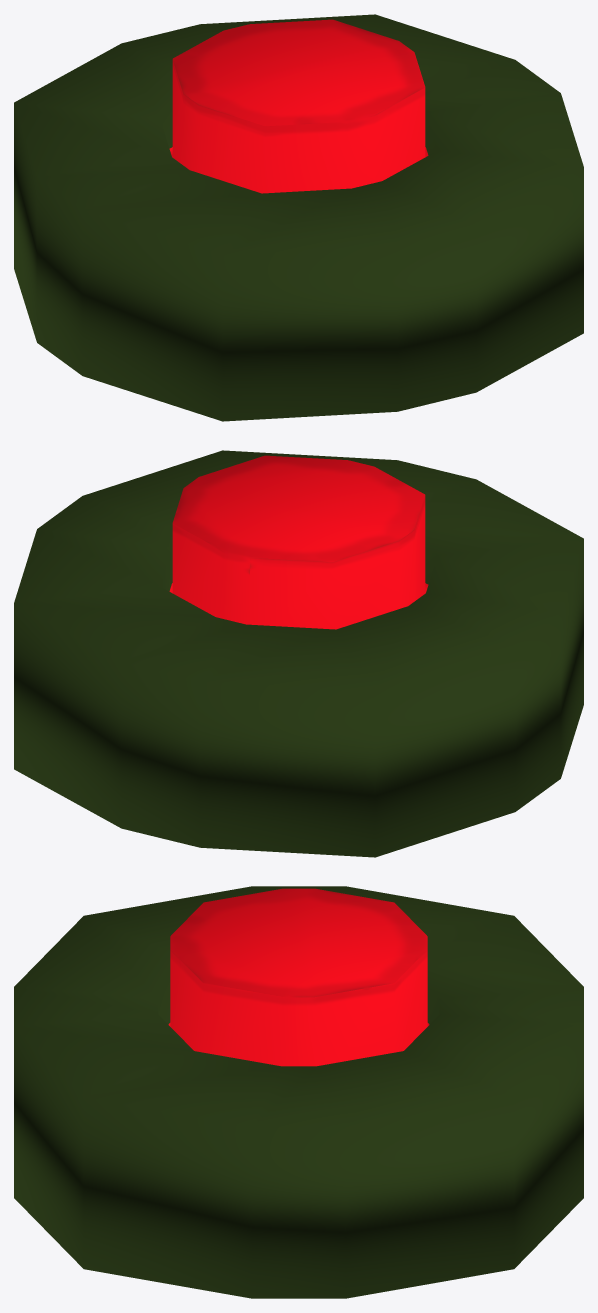
The model's file is mine.fbx.
3 renders of one model, top to bottom at view 1: azimuth 30°, elevation 25°; view 2: azimuth 150°, elevation 25°; view 3: azimuth 270°, elevation 25°, orthographic. The views are drawn at different scales.
Parts seen in each view (by area): view 1: Cube; view 2: Cube; view 3: Cube.
Boxes of the visible parts, x1=… form: Cube: x1=14, y1=14, x2=583, y2=421; Cube: x1=14, y1=450, x2=583, y2=857; Cube: x1=14, y1=886, x2=583, y2=1298.
Size of the model in its own units: 200 by 91.12 by 200.
Materials: 1 (1 with a texture image).
